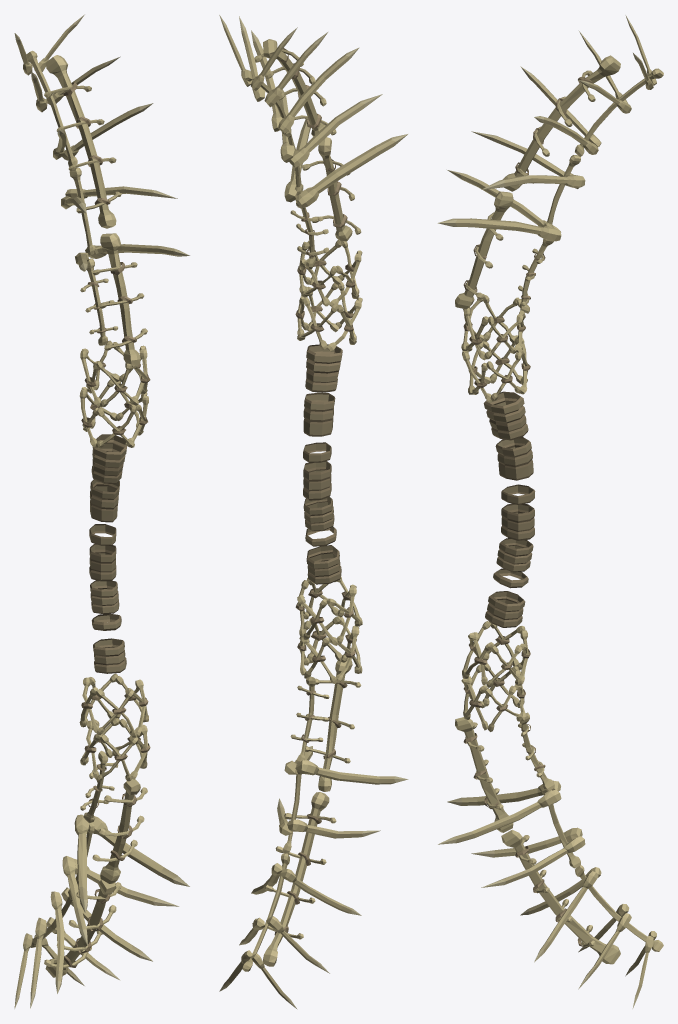
The model's file is mediumBowTribeHandle.glb.
3 views of the same model, side by side, from view 1: azimuth 30°, elevation 25°; view 2: azimuth 150°, elevation 25°; view 3: azimuth 270°, elevation 25° (orthographic). The views are drawn at different scales.
Parts seen in each view (by area): view 1: mediumBowTribeHandle; view 2: mediumBowTribeHandle; view 3: mediumBowTribeHandle.
Boxes of the visible parts, x1,y1,x2,y2 form: mediumBowTribeHandle: (14, 14, 189, 1008); mediumBowTribeHandle: (219, 15, 408, 1009); mediumBowTribeHandle: (437, 15, 663, 1008).
Size of the model in its own units: 0.1648 by 1.37 by 0.2919.
